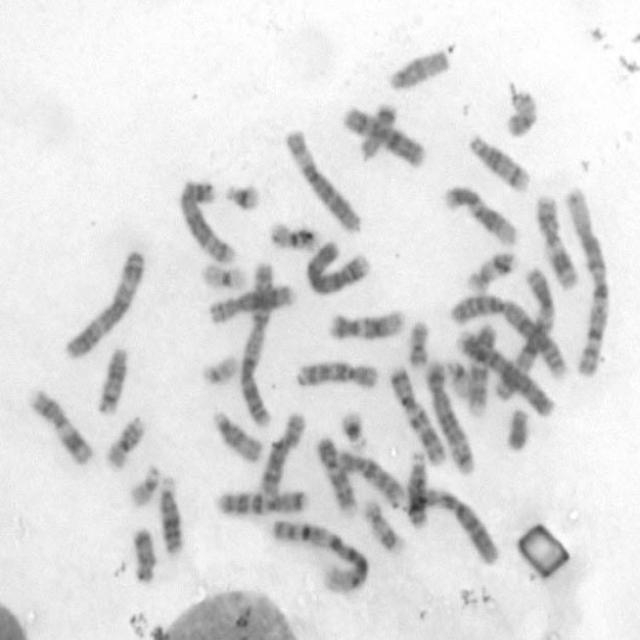A1: (560, 182, 612, 379), (268, 516, 370, 595)
A2: (446, 288, 569, 381), (235, 257, 277, 429)
A3: (60, 244, 146, 360), (490, 262, 556, 403)
B4: (453, 322, 556, 418), (302, 237, 373, 298)
B5: (422, 355, 476, 477), (176, 175, 238, 266)
C10: (332, 447, 405, 509), (292, 356, 379, 391)
C11: (25, 386, 94, 467), (532, 191, 580, 292)
C12: (441, 181, 518, 248), (324, 305, 406, 342)
C6: (282, 124, 363, 234), (404, 483, 501, 566)
C7: (385, 361, 447, 467), (212, 485, 310, 517)
C8: (256, 409, 306, 499), (205, 280, 298, 327)
C9: (313, 432, 359, 518), (465, 318, 501, 420)
D13: (155, 471, 185, 556), (403, 447, 429, 529)
D14: (465, 130, 532, 194), (93, 343, 131, 415)
D15: (210, 405, 264, 465), (385, 44, 450, 92)
E16: (101, 412, 146, 471), (266, 218, 320, 253)
E17: (360, 494, 406, 556), (462, 248, 519, 293)
E18: (353, 100, 398, 162), (129, 523, 158, 585)
F19: (198, 259, 248, 292), (442, 355, 473, 399)
F20: (502, 84, 539, 140), (404, 316, 431, 368)
G21: (336, 405, 370, 451), (221, 179, 262, 212)
G22: (126, 461, 162, 509), (198, 352, 240, 386)
X: (338, 102, 428, 170)
Y: (503, 404, 531, 452)
